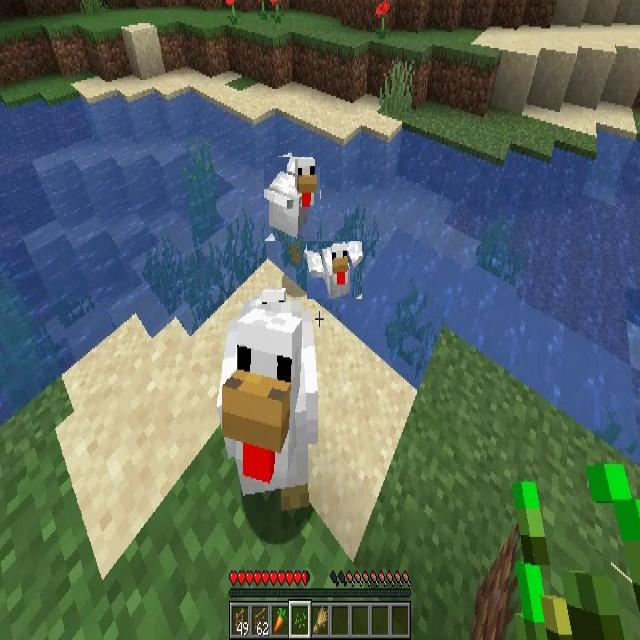duck: (222, 309, 317, 519), (264, 158, 320, 242), (307, 241, 362, 299)
flower: (376, 1, 390, 40)
